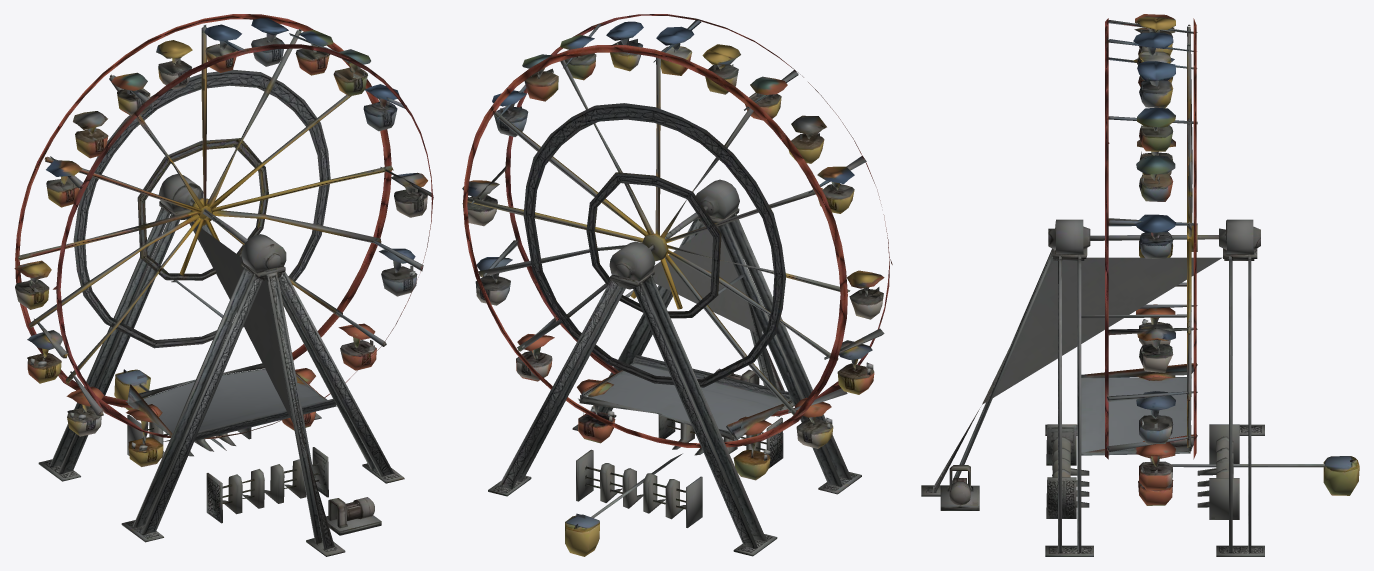
File: roda_gigante.glb
3 views of the same model, side by side, from view 1: azimuth 30°, elevation 25°; view 2: azimuth 150°, elevation 25°; view 3: azimuth 270°, elevation 25° (orthographic). The views are drawn at different scales.
Visible parts, largest first — view 1: Roda gigente; view 2: Roda gigente; view 3: Roda gigente.
Boxes of the visible parts, x1=… form: Roda gigente: x1=14, y1=14, x2=433, y2=556; Roda gigente: x1=462, y1=14, x2=892, y2=556; Roda gigente: x1=921, y1=14, x2=1359, y2=556.
Bounding box in the file's own units: 0.9668 × 0.998 × 0.877.
1 material, 1 textured.
